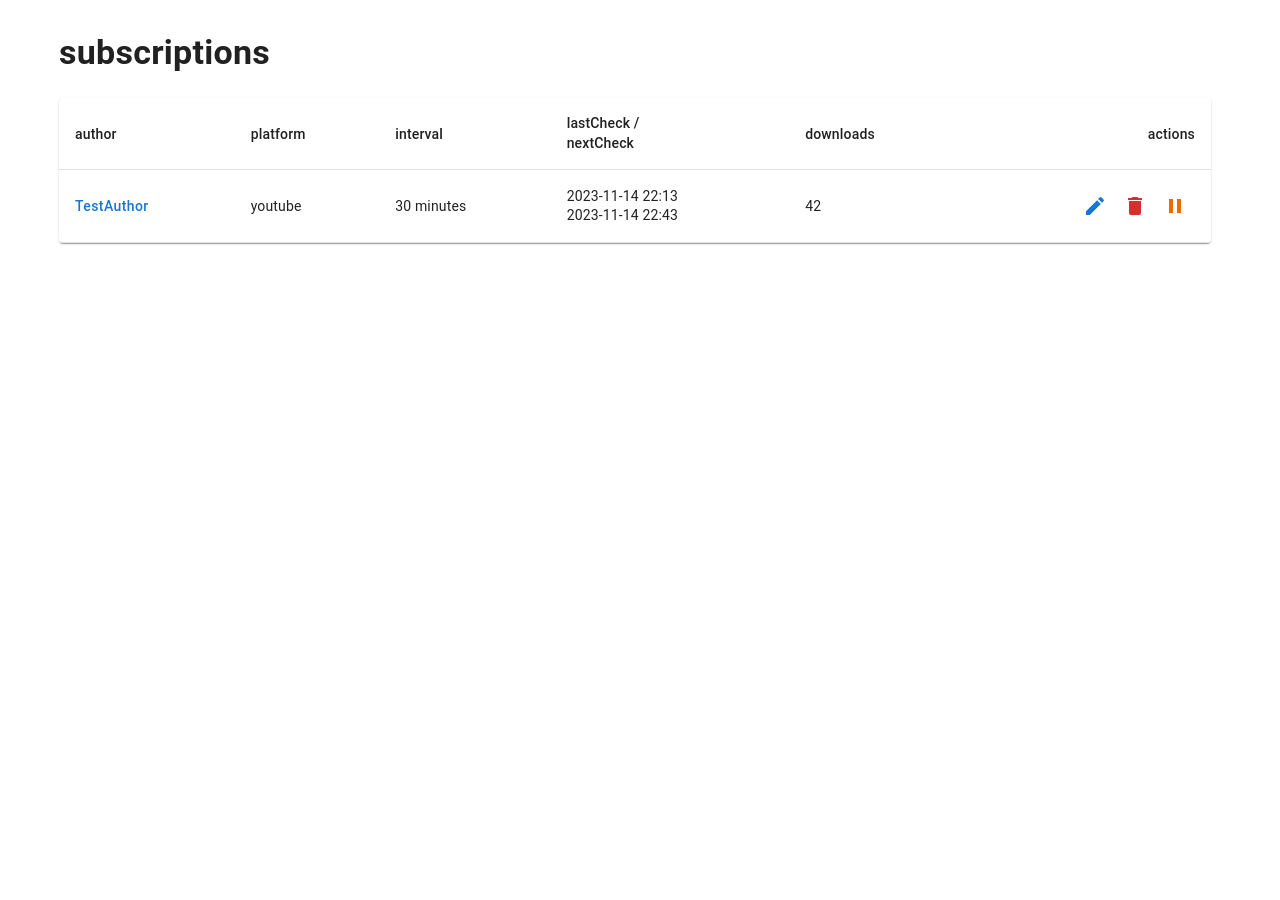
Test: SubscriptionsPage › closes unsubscribe modal when cancel button is clicked
What coordinates should you click on to do the following:
click the button titled "unsubscribe"
I would click on:
 (1135, 206)
Its box is [1115,186,1155,226].
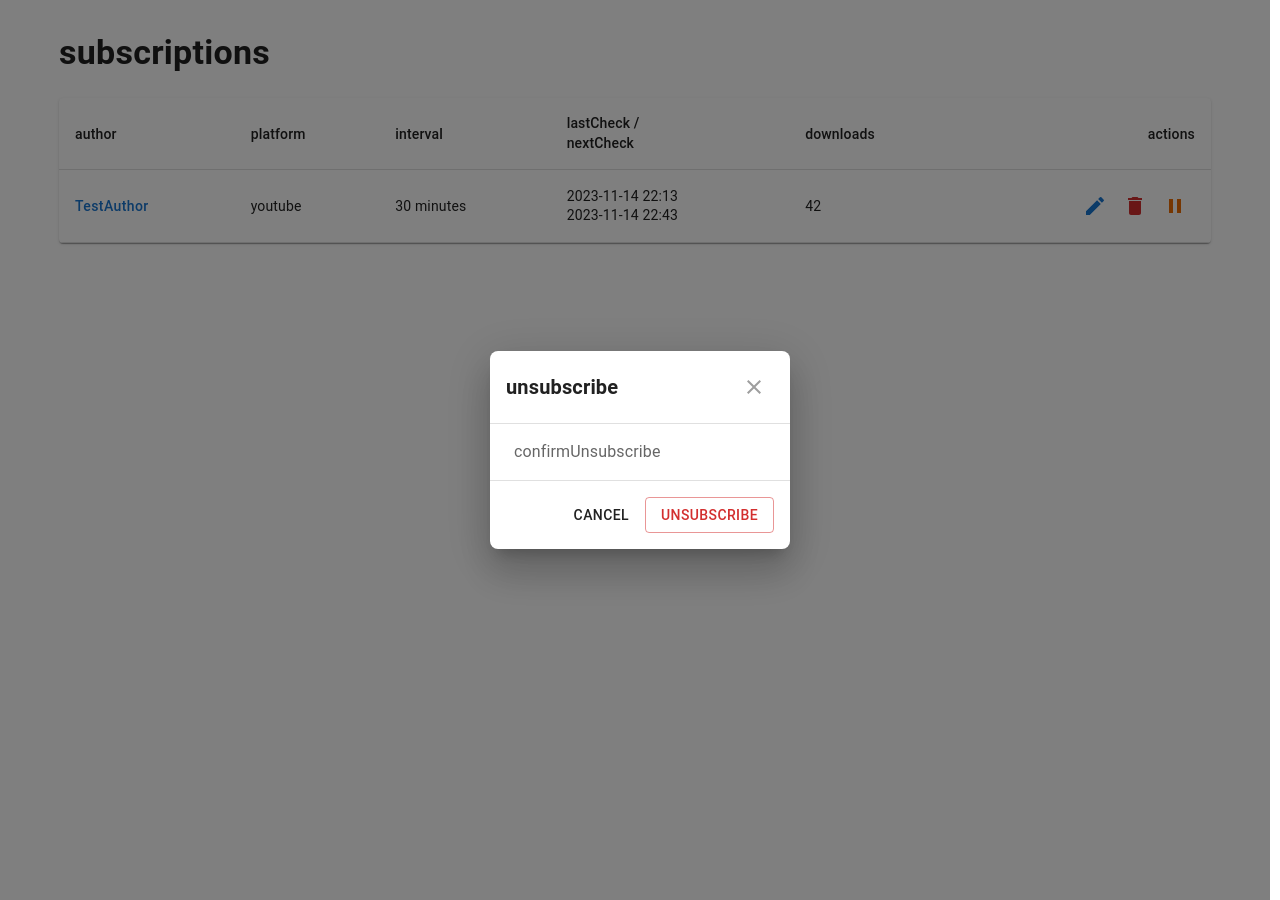
Result: the dialog is shown at [490,351,790,549]
Note: Click the cancel button in the real ConfirmationModal
What coordinates should you click on to do the following:
click the button "cancel"
I would click on:
 (601, 515)
Its box is [566,497,637,533].
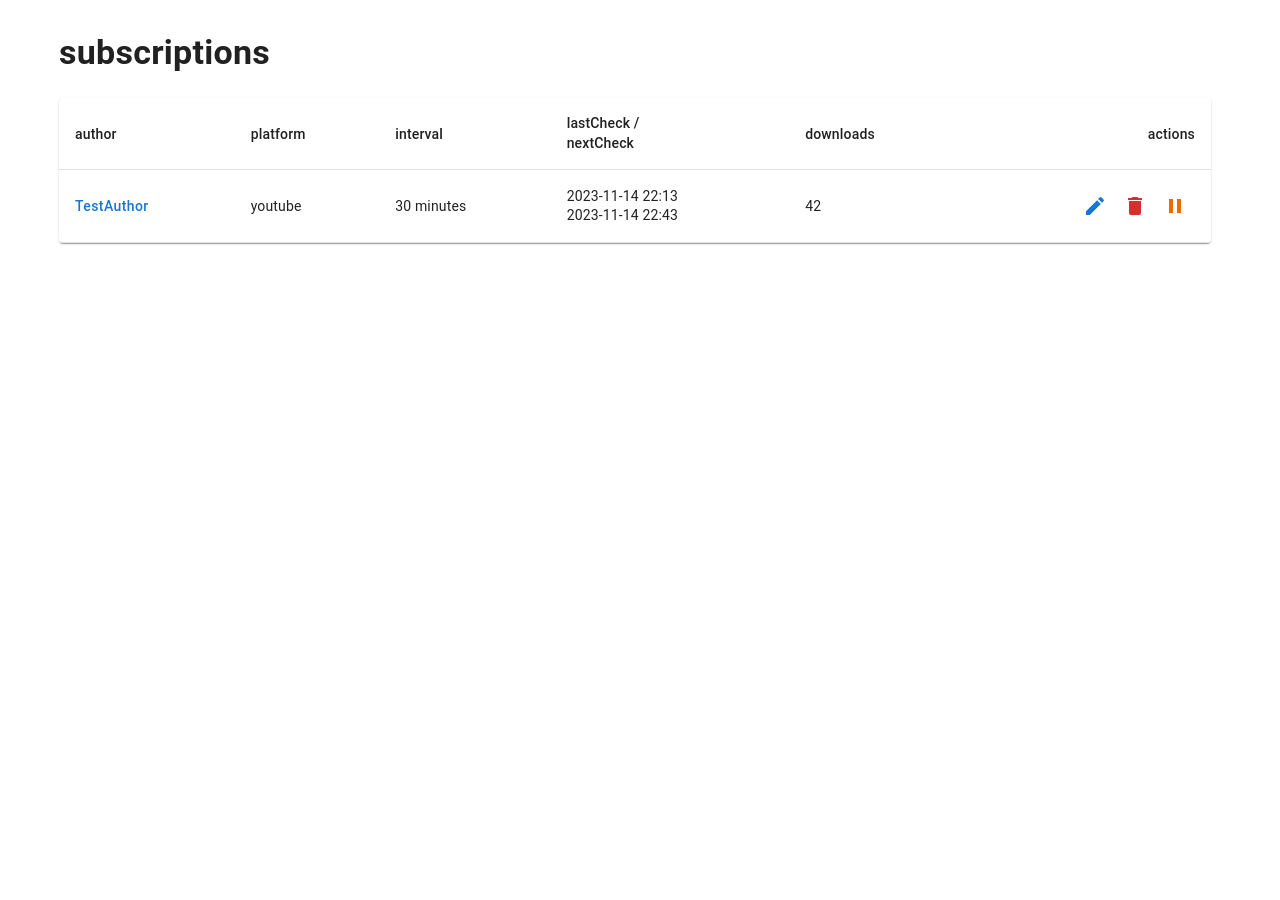
Result: the dialog is gone
